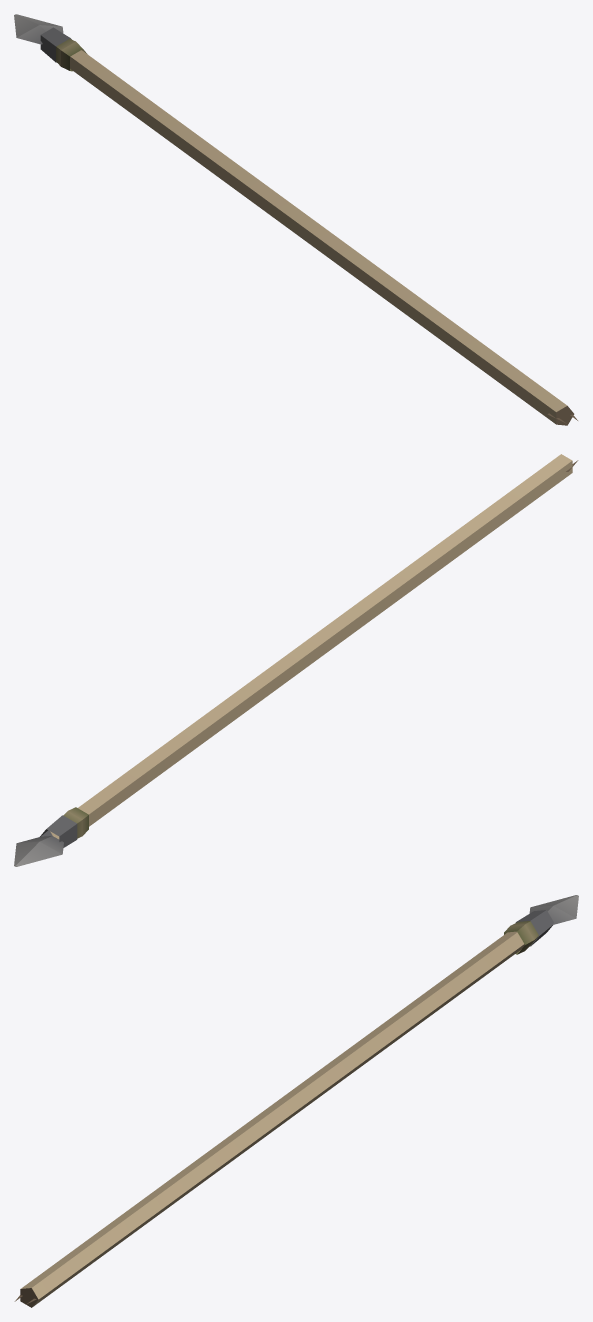
The model's file is arrow_iron_a.glb.
3 views of the same model, one above another, from view 1: azimuth 30°, elevation 25°; view 2: azimuth 150°, elevation 25°; view 3: azimuth 330°, elevation 25° (orthographic).
Parts seen in each view (by area): view 1: arrow_iron_a; view 2: arrow_iron_a; view 3: arrow_iron_a.
Part boxes in pixels (box(x1,y1,x2,y2)): arrow_iron_a: box(14, 14, 577, 425); arrow_iron_a: box(14, 454, 578, 866); arrow_iron_a: box(14, 895, 578, 1307).
Bounding box in the file's own units: 0.0414 × 0.0228 × 0.864.
